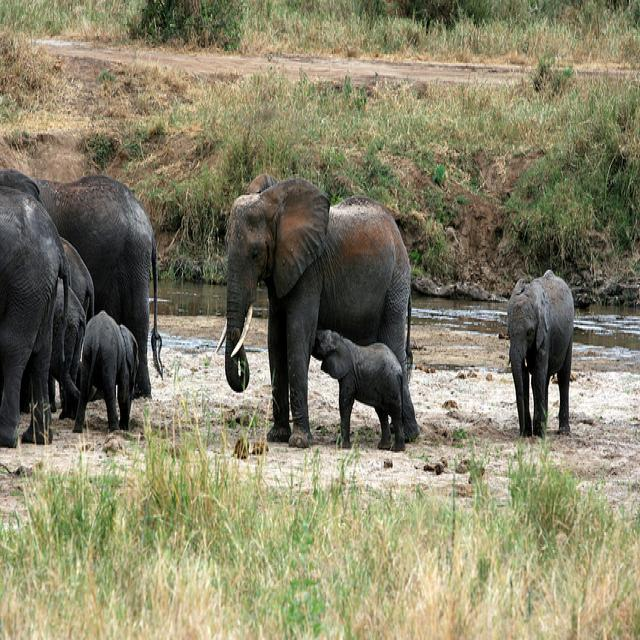Elephant: (215, 172, 415, 448), (0, 168, 163, 400), (0, 184, 71, 448), (310, 327, 417, 451), (506, 268, 574, 438), (72, 309, 139, 433)
